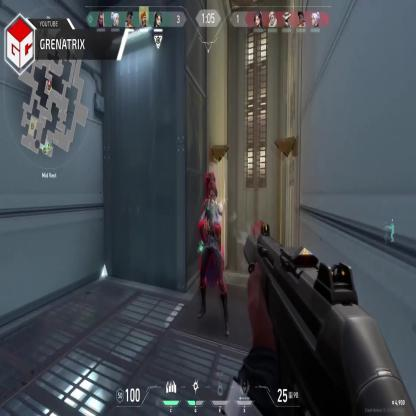enemy: (196, 170, 230, 338)
enemy_head: (208, 181, 217, 204)
